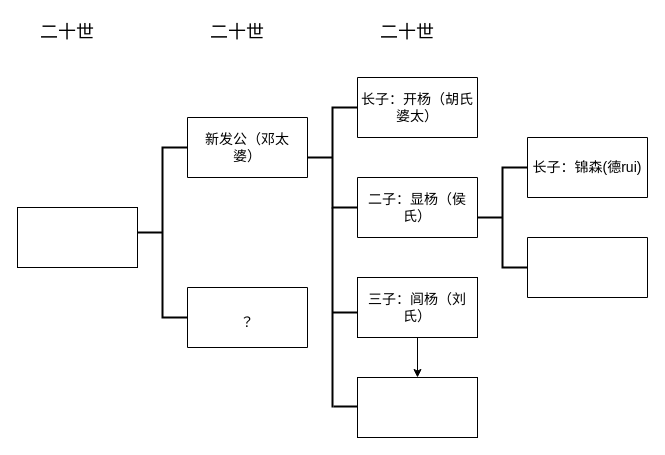
The diagram is 665 pixels wide and 455 high, and some of its shapes have lost their labels. The shapes that lost their labels are listed below. From the top down, each one's centre as x and y in pixels, then its label:
(x=77, y=237): 奉玉公 （张氏）
(x=417, y=407): 四子：秦杨（薛氏）
